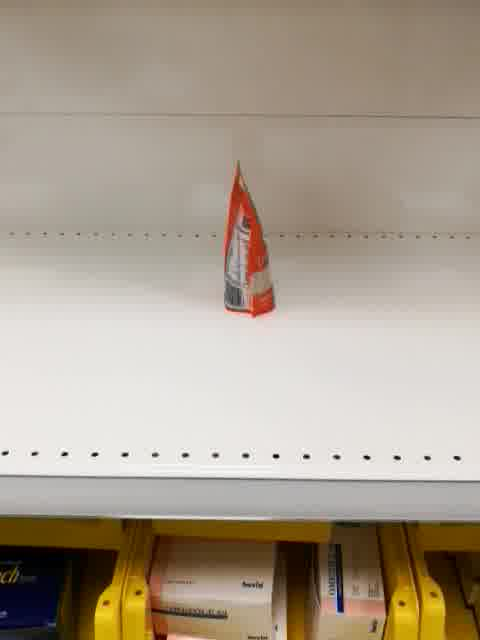whitechia: (219, 157, 281, 322)
